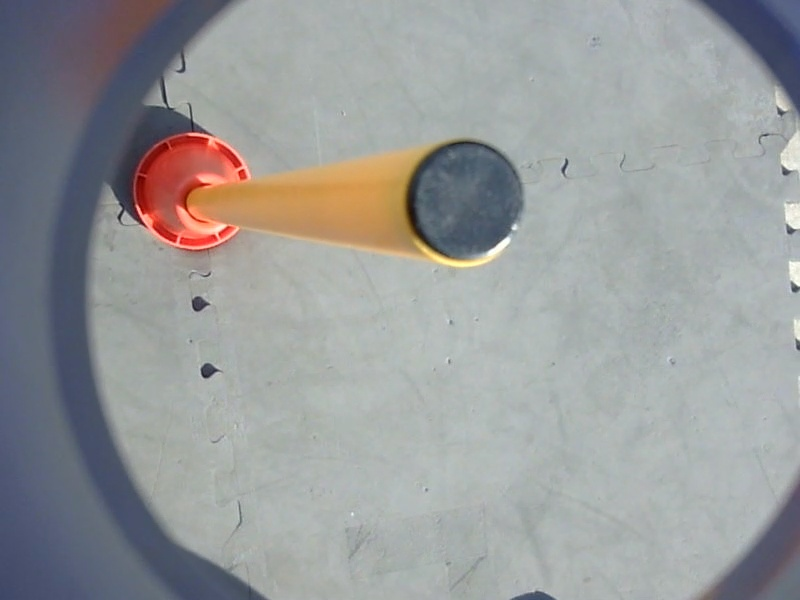tip: (392, 135, 530, 275)
